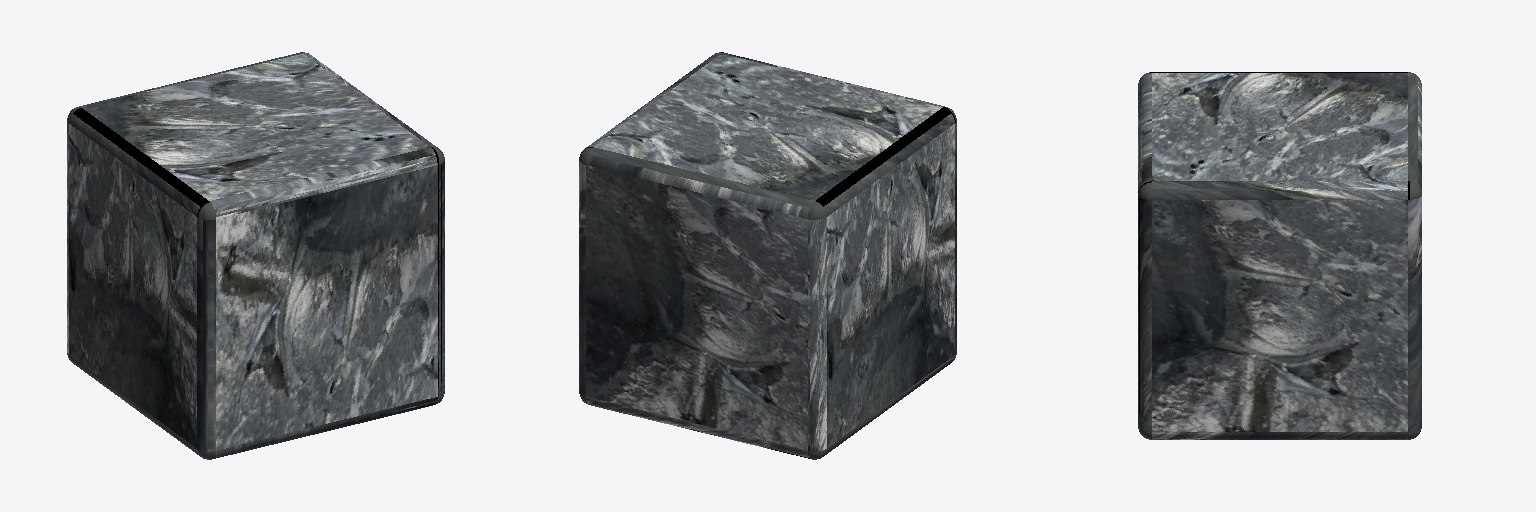
The picture shows the model from 3 angles: view 1: azimuth 30°, elevation 25°; view 2: azimuth 150°, elevation 25°; view 3: azimuth 270°, elevation 25°; orthographic projection.
Visible parts, largest first — view 1: Cube; view 2: Cube; view 3: Cube.
Boxes of the visible parts, <box> form: Cube: <box>67,52,444,459</box>; Cube: <box>579,52,956,459</box>; Cube: <box>1138,72,1421,439</box>.
Bounding box in the file's own units: 2 × 2 × 2.
Materials: 1 (1 with a texture image).